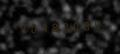eight: (83, 18, 93, 32), (50, 20, 60, 33)
four: (17, 22, 27, 35), (94, 18, 104, 31)
seven: (61, 19, 71, 33), (39, 21, 49, 34)
zero: (28, 21, 38, 35), (72, 19, 82, 32)
